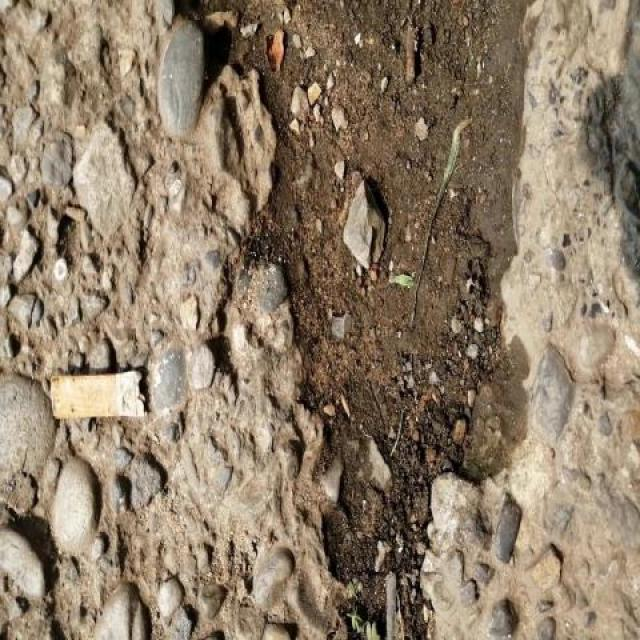non-organic waste: (46, 368, 157, 423)
